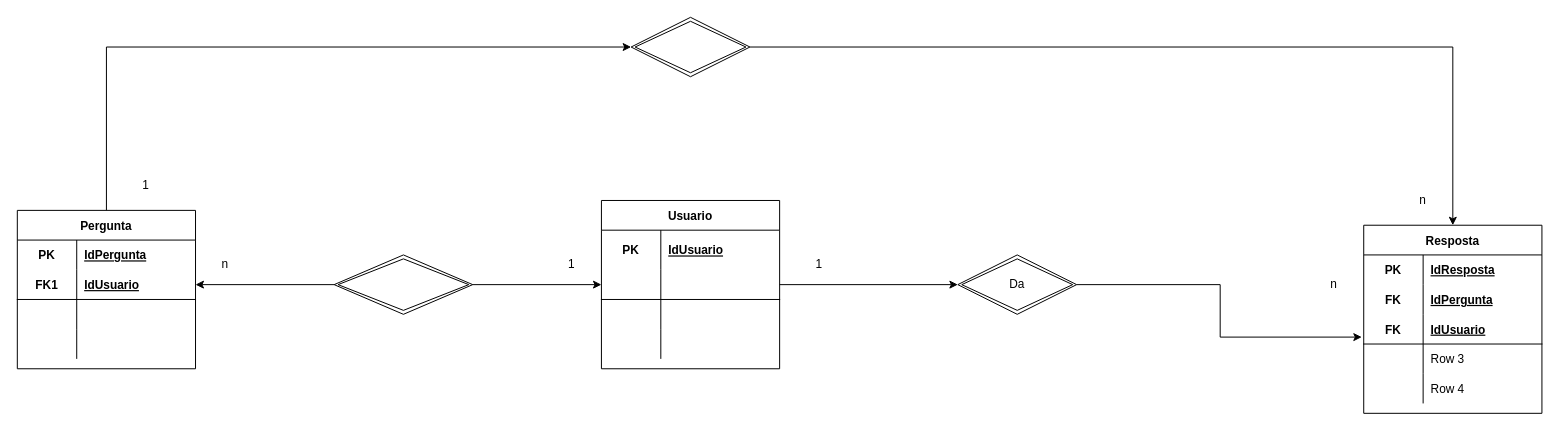
Image size: 1559x431. Some labels were removed from this diagram. The shapes that lost their labels are listed below. From the top down, each one's centre as x and y in pixels, then its label:
the point at 690,46: Tem
the point at 403,284: Faz
